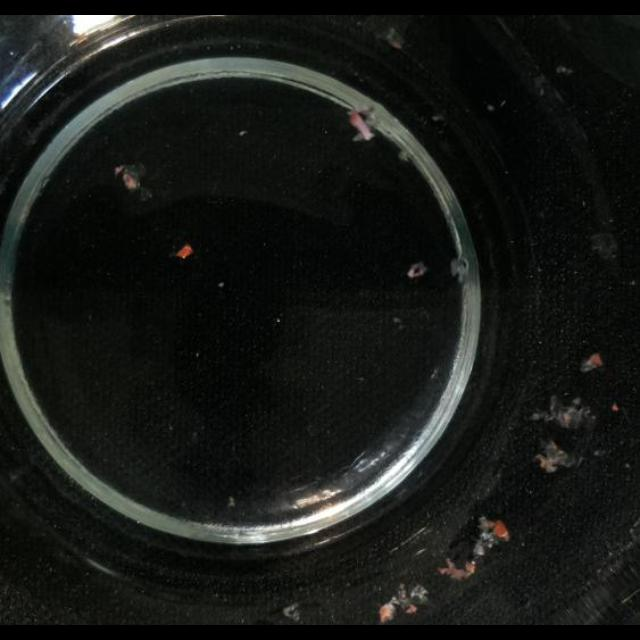Fibre: (380, 21, 410, 54), (281, 601, 309, 625), (405, 259, 427, 281)
Fragment: (440, 510, 510, 584), (530, 438, 612, 480), (373, 572, 432, 624), (527, 405, 603, 433), (342, 106, 386, 142), (533, 441, 577, 474), (115, 163, 151, 199), (438, 557, 474, 581), (478, 518, 509, 544), (584, 353, 606, 372)
microbeads: (174, 244, 194, 258), (227, 496, 236, 508), (392, 316, 402, 326)
